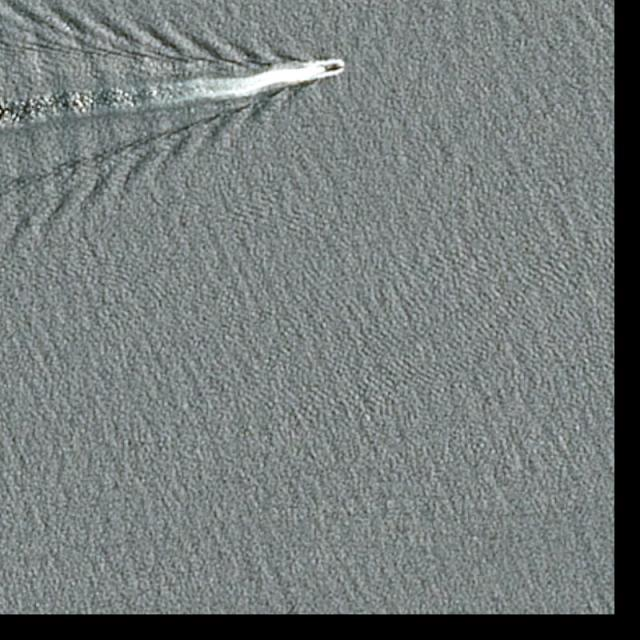ship: (326, 64, 342, 71)
